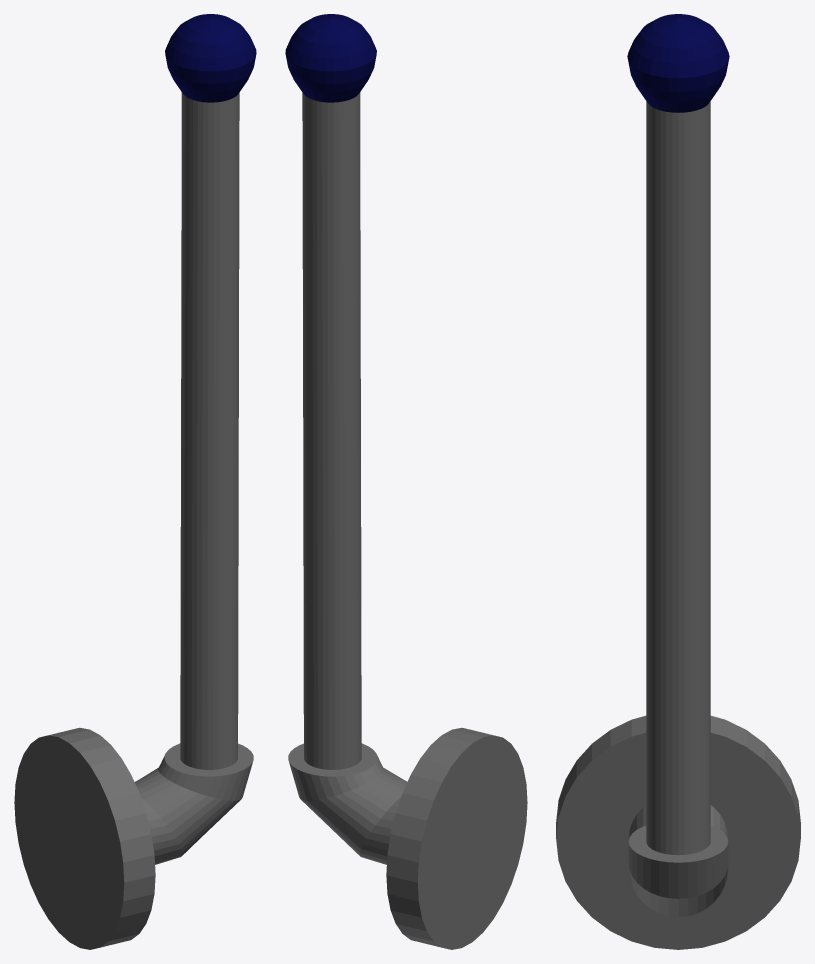
Rendered from Correction_Handel.fbx.
3 renders of one model, left to right at view 1: azimuth 30°, elevation 25°; view 2: azimuth 150°, elevation 25°; view 3: azimuth 270°, elevation 25°, orthographic. The views are drawn at different scales.
Visible parts, largest first — view 1: Handel; view 2: Handel; view 3: Handel.
Part boxes in pixels (x1,y1,x2,y2): Handel: (14,14,256,949); Handel: (285,14,527,949); Handel: (556,14,800,949).
Bounding box in the file's own units: 27.96 × 131 × 29.35.
